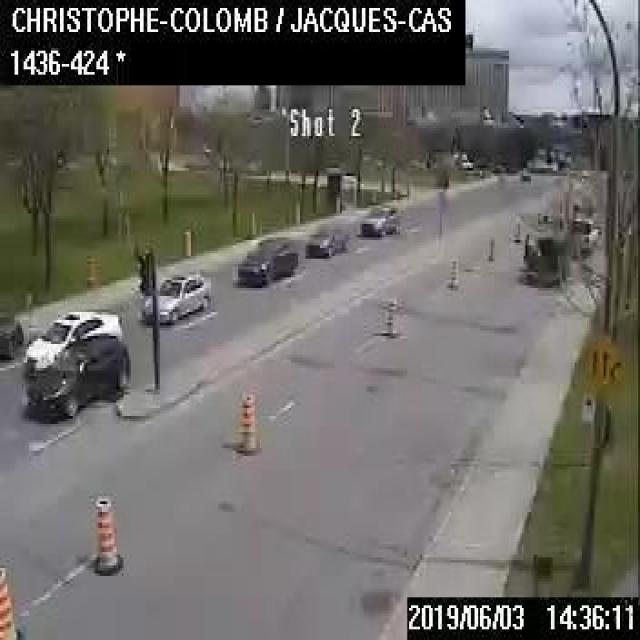construction: (93, 493, 118, 571), (238, 389, 258, 454), (0, 568, 18, 637), (384, 299, 395, 336), (449, 256, 458, 282), (182, 225, 190, 254), (84, 256, 91, 288), (486, 235, 494, 260), (294, 200, 302, 224), (249, 210, 255, 233), (334, 193, 339, 214), (514, 221, 519, 239)
vehicle: (24, 330, 128, 415), (22, 309, 122, 375), (142, 269, 210, 323), (236, 234, 296, 280), (520, 226, 568, 282), (303, 224, 348, 255), (358, 205, 398, 235), (0, 311, 24, 356), (568, 216, 598, 251), (450, 150, 472, 169), (519, 165, 529, 179)
